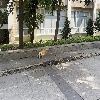fire: (39, 49, 47, 56)
